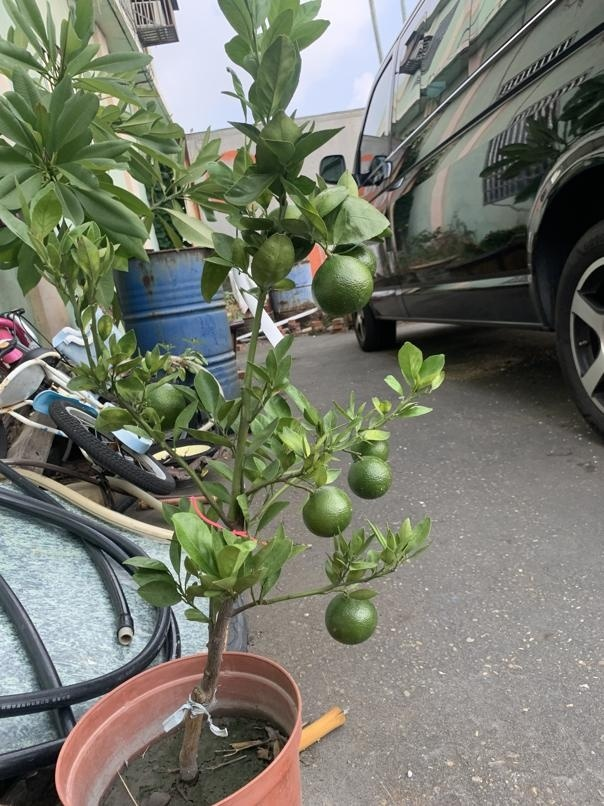Tangerine: (312, 253, 376, 317), (321, 589, 381, 647), (300, 484, 354, 536), (347, 454, 391, 501)
